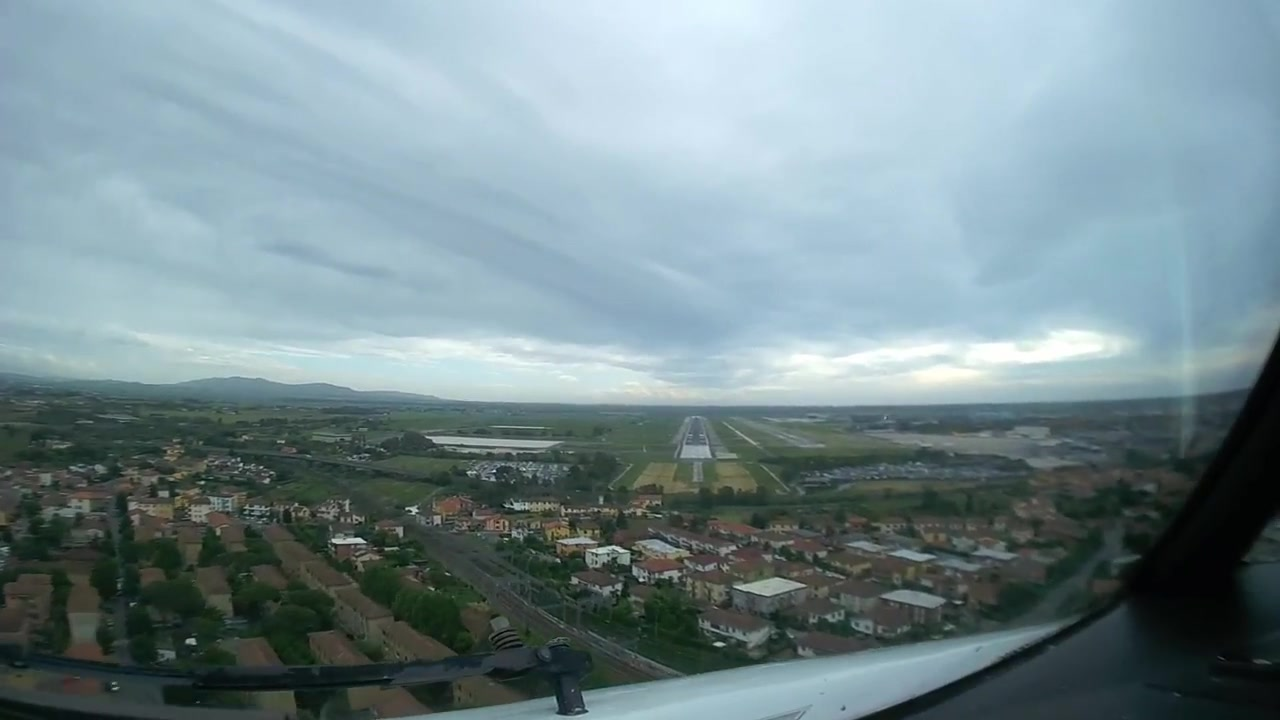runway: (679, 415, 711, 448)
